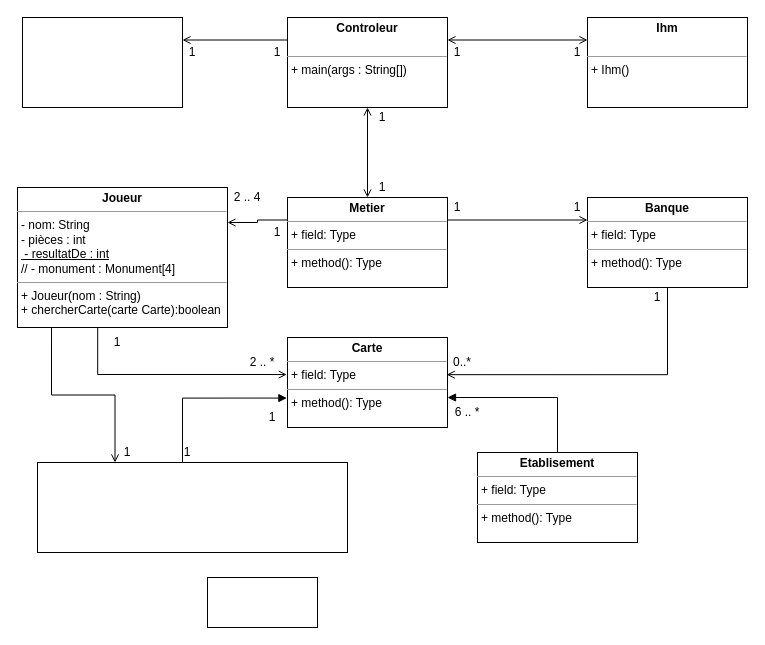
Some shapes in this 765 by 645 pixel diagram are drawn without their labels. The shapes that lost their labels are listed below. From the top down, each one's centre as x and y in pixels, then its label:
At pixel 102 62: "Regle + field: Type + method(): Type".
At pixel 192 507: "Monument - construit: Type + Monument(nom : String, )".
At pixel 262 602: "Object".
